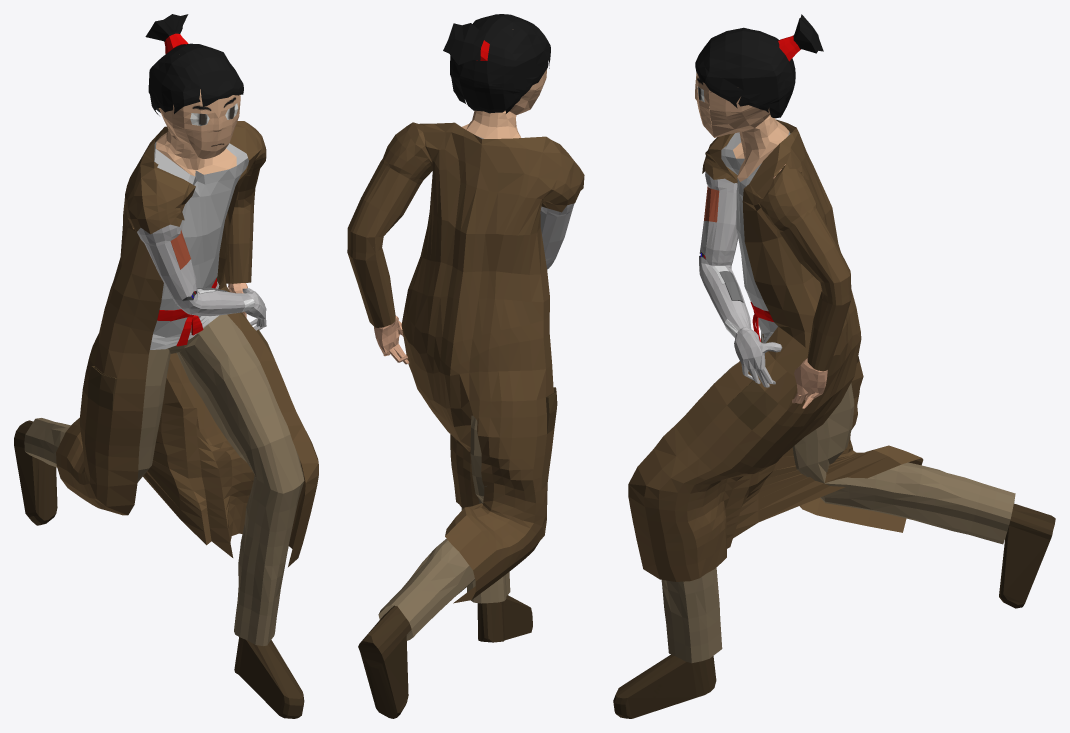
The model's file is One_RF_000015.obj.
3 views of the same model, side by side, from view 1: azimuth 30°, elevation 25°; view 2: azimuth 150°, elevation 25°; view 3: azimuth 270°, elevation 25° (orthographic). The views are drawn at different scales.
Visible parts, largest first — view 1: Hair_Cube.004; view 2: Hair_Cube.004; view 3: Hair_Cube.004.
Part boxes in pixels (x1,y1,x2,y2): Hair_Cube.004: (14,14,318,718); Hair_Cube.004: (347,14,584,718); Hair_Cube.004: (613,14,1055,718).
Bounding box in the file's own units: 1.09 × 3.8 × 2.25.
